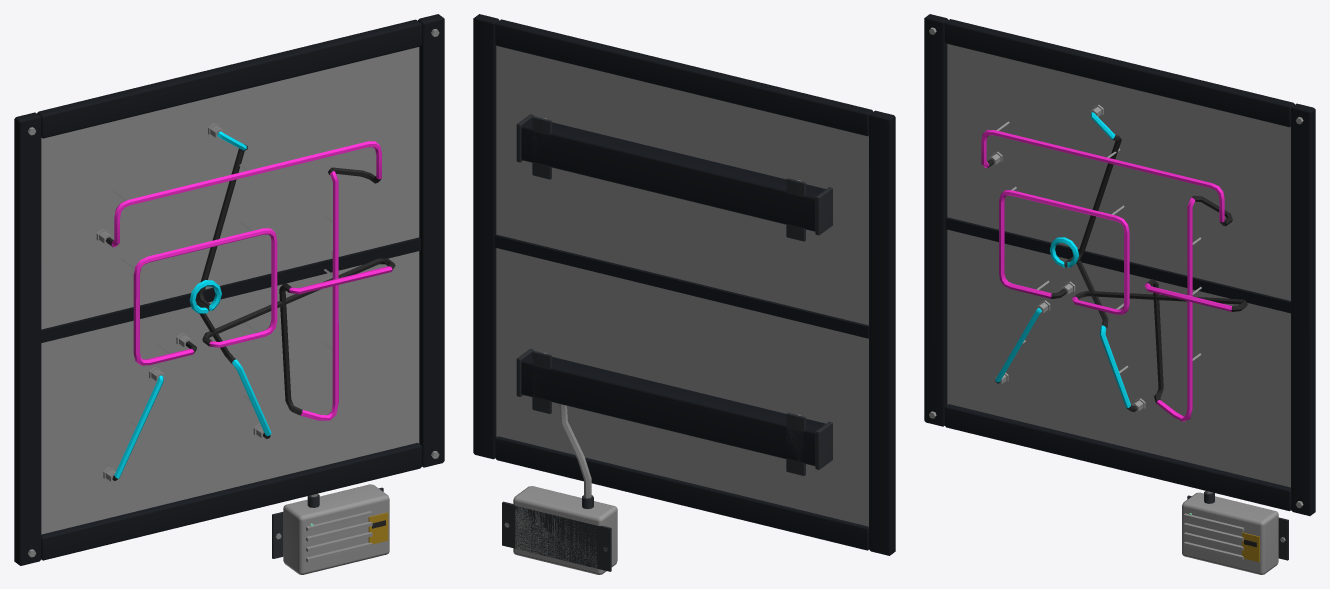
The model's file is Neon_Glyph_A.fbx.
The picture shows the model from 3 angles, left to right: view 1: azimuth 30°, elevation 25°; view 2: azimuth 150°, elevation 25°; view 3: azimuth 330°, elevation 25°; orthographic projection. The views are drawn at different scales.
Parts seen in each view (by area): view 1: Neon_Glyph_A_LOD0; view 2: Neon_Glyph_A_LOD0; view 3: Neon_Glyph_A_LOD0.
Boxes of the visible parts, left/top/right/bottom form: Neon_Glyph_A_LOD0: left=14, top=14, right=444, bottom=574; Neon_Glyph_A_LOD0: left=473, top=14, right=895, bottom=574; Neon_Glyph_A_LOD0: left=924, top=14, right=1315, bottom=574.
Size of what is drawn, in the model's own units: 1.12 by 1.32 by 0.1695.
